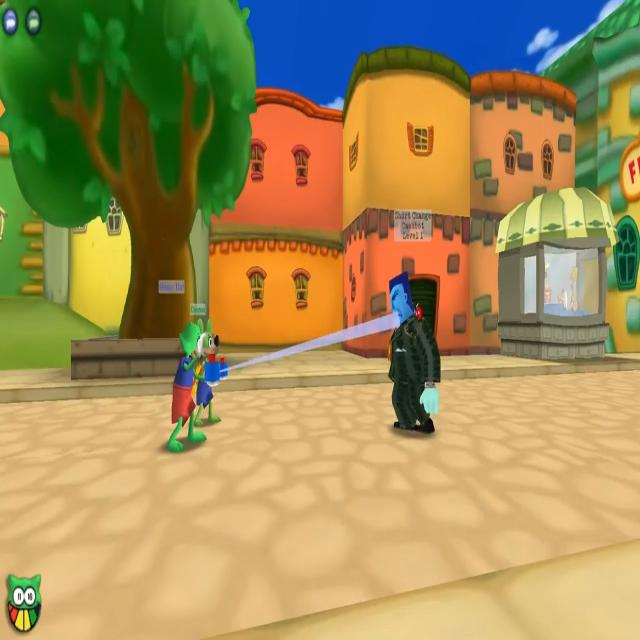shortchange: (388, 270, 442, 435)
